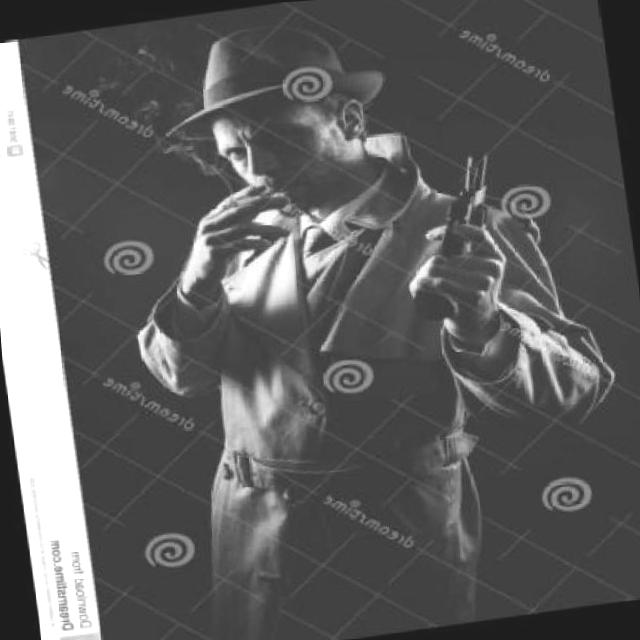smoke: (220, 187, 281, 214)
